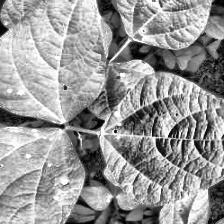Bean Rust: (102, 75, 224, 203), (0, 0, 104, 122), (0, 125, 83, 224), (113, 0, 217, 48), (103, 61, 155, 106)
